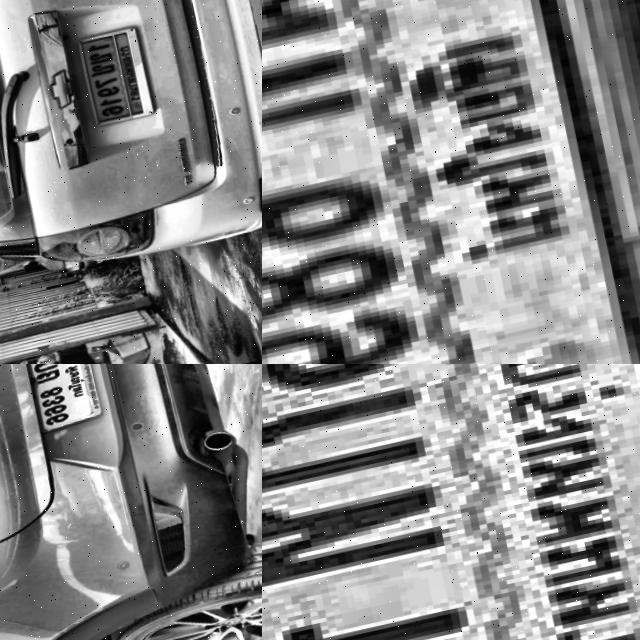license-plate: (262, 0, 640, 364), (262, 364, 640, 640), (74, 25, 159, 128), (21, 364, 104, 434)
